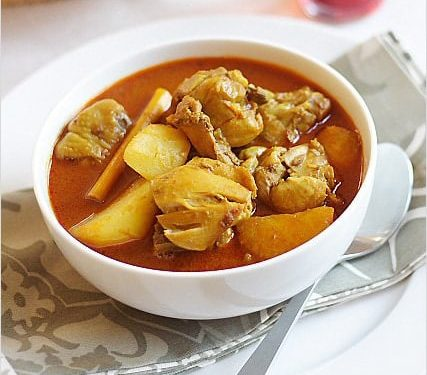chicken_curry: (83, 71, 344, 253)
